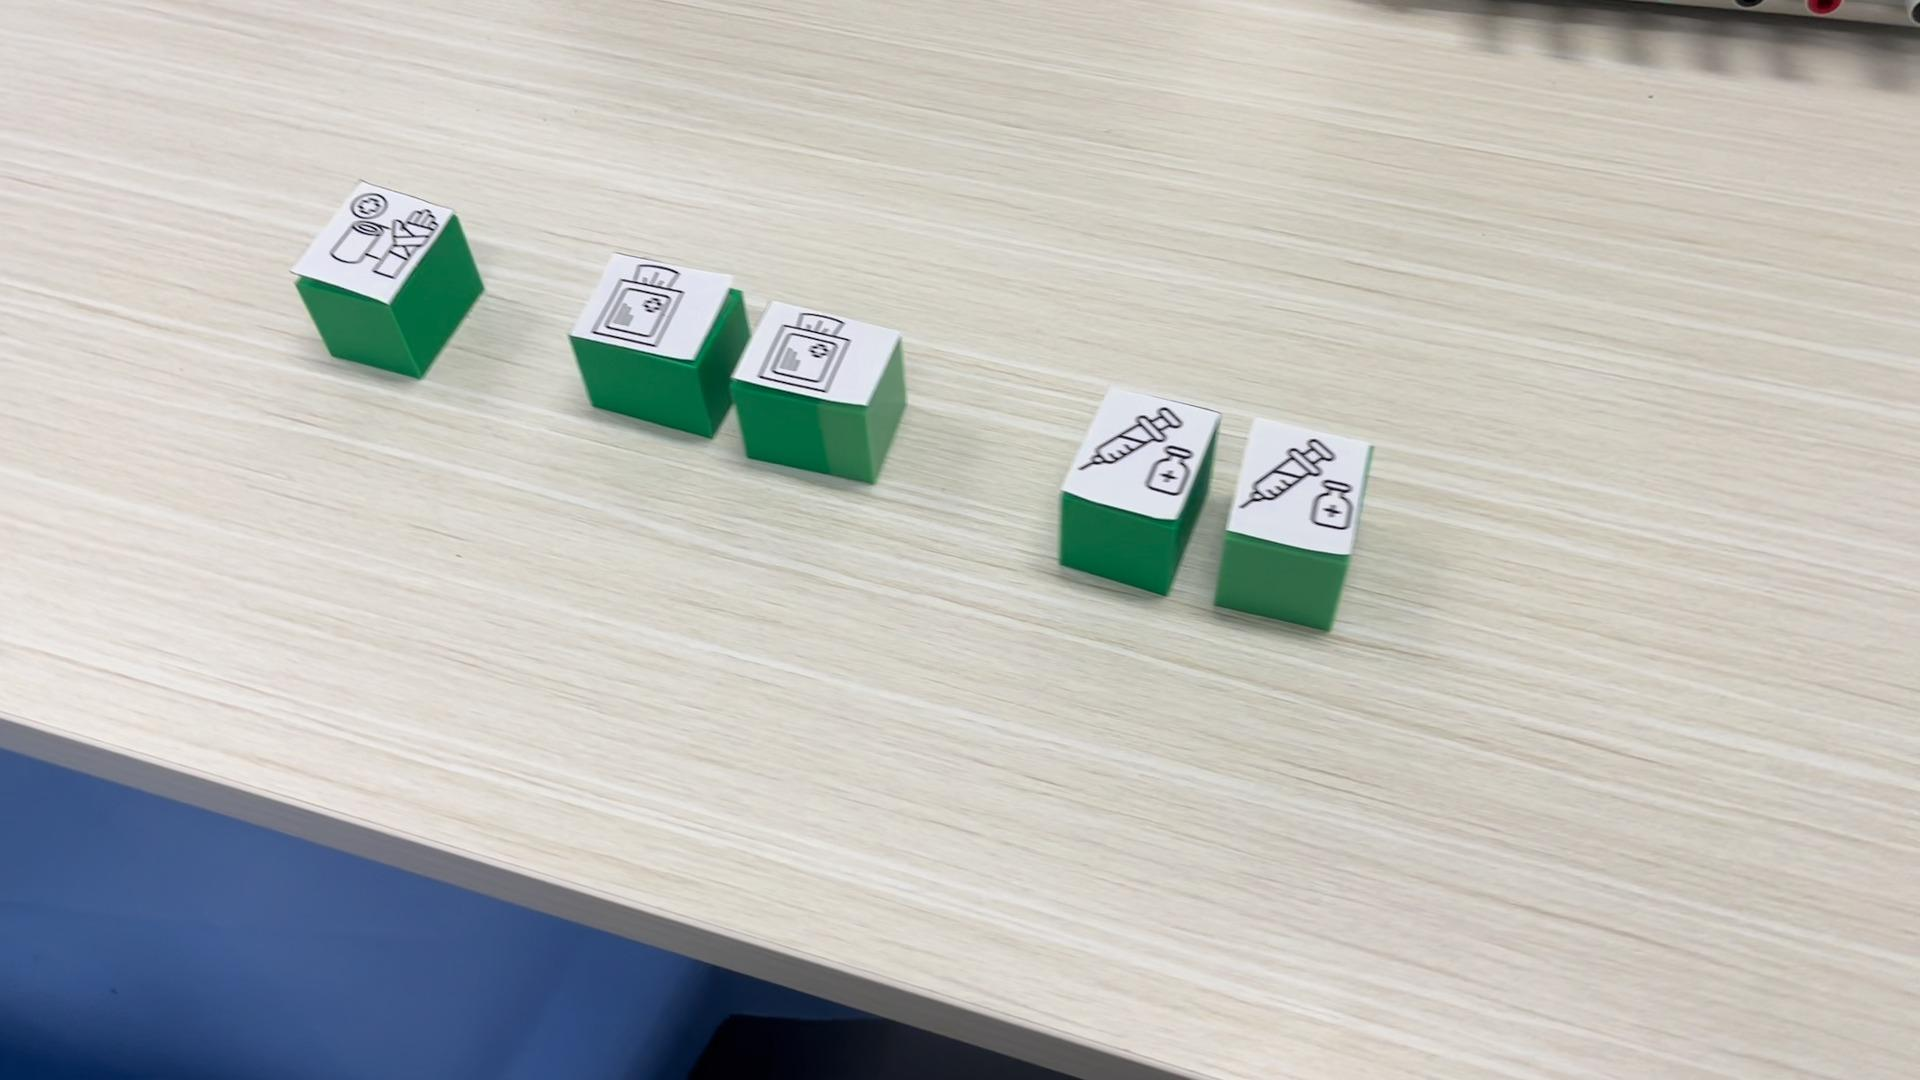Bandages: (287, 181, 485, 378)
Gauze: (728, 295, 907, 487), (567, 251, 736, 442)
antiseptic cream: (1055, 382, 1233, 601), (1215, 410, 1377, 634)
